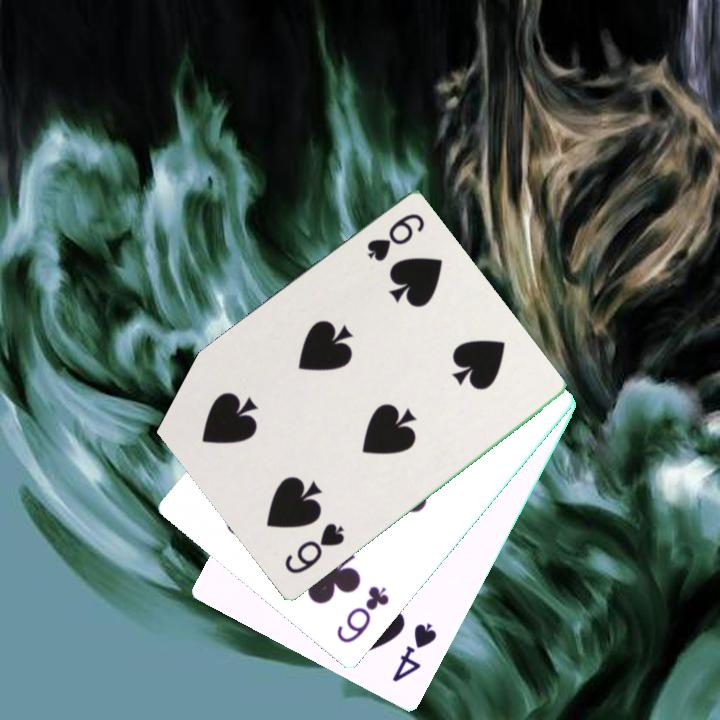4s: (388, 620, 440, 686)
6c: (333, 582, 393, 647)
6s: (280, 520, 348, 578), (363, 210, 428, 265)
